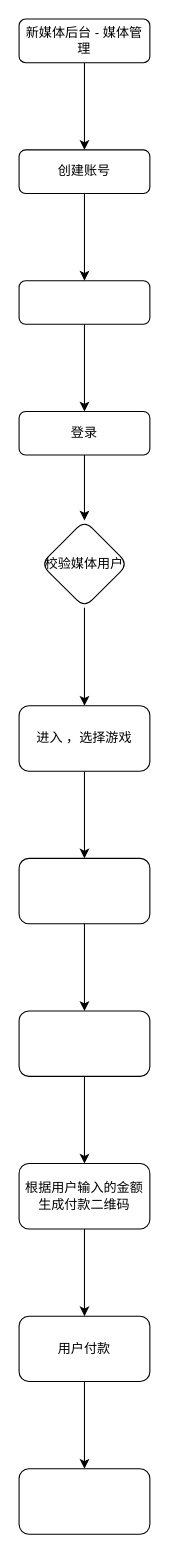
The diagram is 169 pixels wide and 1553 high, and some of its shapes have lost their labels. Each missing label, with the centre of its shape:
"君橙网站" belongs at pixel 84 302.
"用户输入金额" belongs at pixel 84 1043.
"记录订单状态（成功、失败）" belongs at pixel 84 1501.
"购买" belongs at pixel 84 890.
